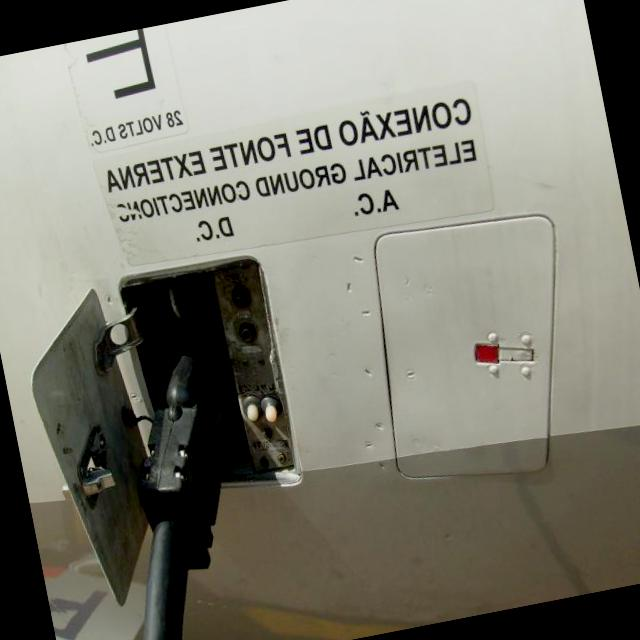dent: (320, 233, 400, 349), (348, 416, 402, 484), (352, 360, 386, 384)
